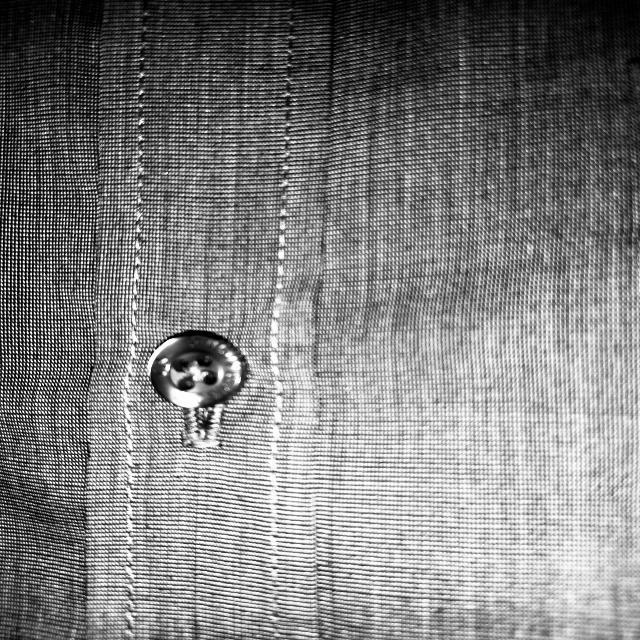Button_hike: (139, 328, 257, 465)
